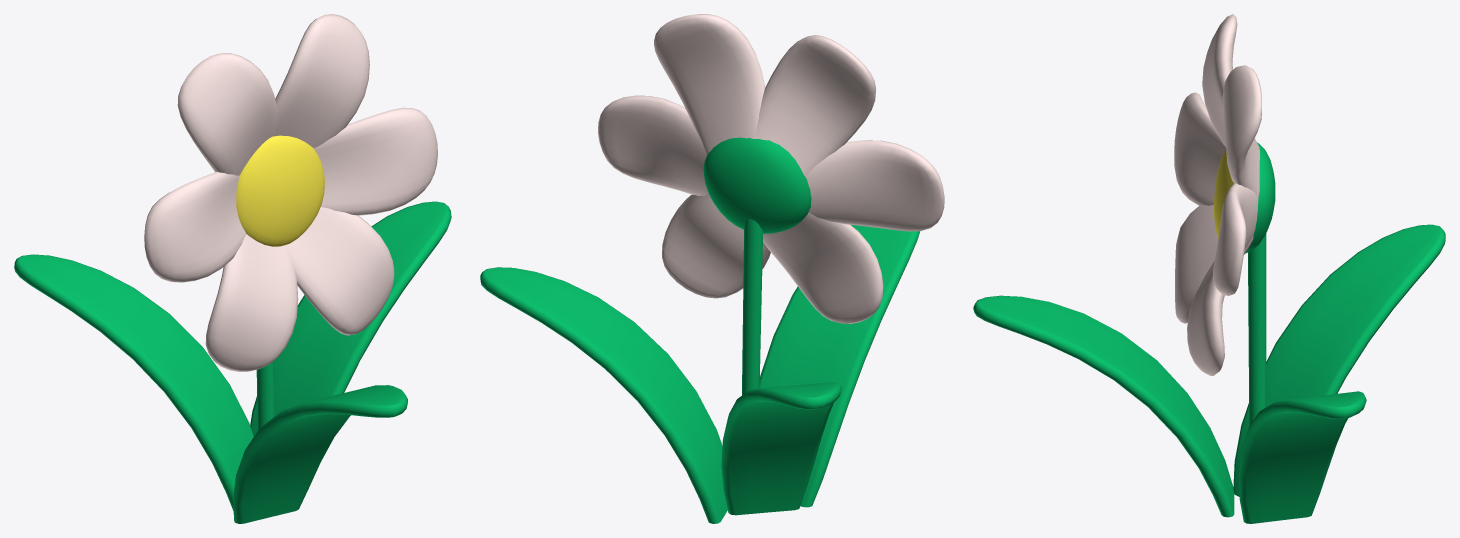
The model's file is City_12_Flower_1.glb.
The picture shows the model from 3 angles, left to right: view 1: azimuth 30°, elevation 25°; view 2: azimuth 150°, elevation 25°; view 3: azimuth 270°, elevation 25°; orthographic projection. The views are drawn at different scales.
Visible parts, largest first — view 1: City_12_Flower_1; view 2: City_12_Flower_1; view 3: City_12_Flower_1.
Boxes of the visible parts, x1,y1,x2,y2 form: City_12_Flower_1: (14, 14, 451, 523); City_12_Flower_1: (480, 14, 944, 523); City_12_Flower_1: (973, 14, 1445, 523).
Bounding box in the file's own units: 0.5061 × 0.5901 × 0.5436.
Materials: 1 (1 with a texture image).
